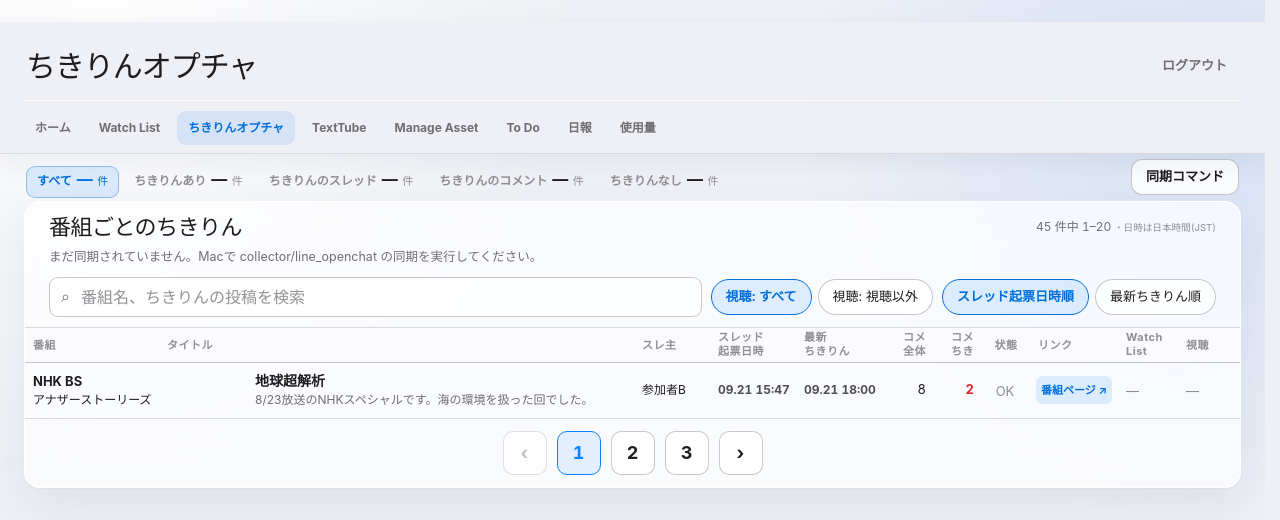
a row's link carries the current page, so saving in the detail returns to the same page (not always page 1)
Click the button named "次のページ" at (740, 453), box [718,431,762,475]
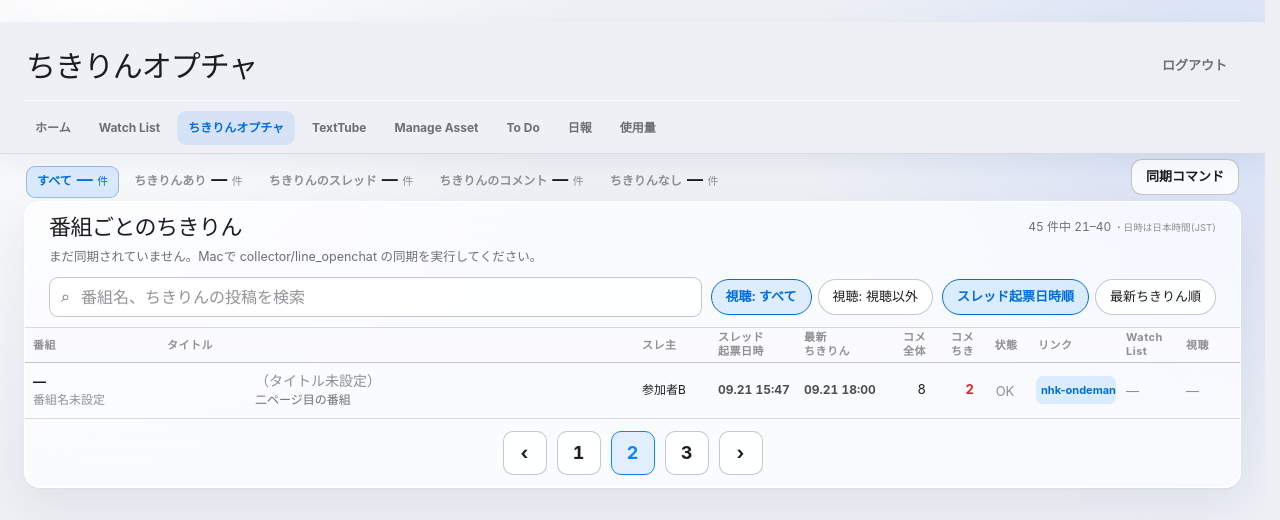
expect the text "二ページ目の番組" is shown: met, box [255,392,351,408]
